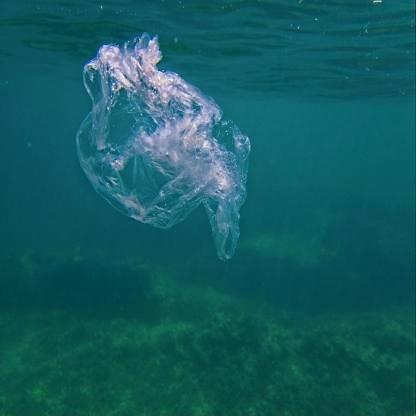pbag: (74, 31, 252, 262)
